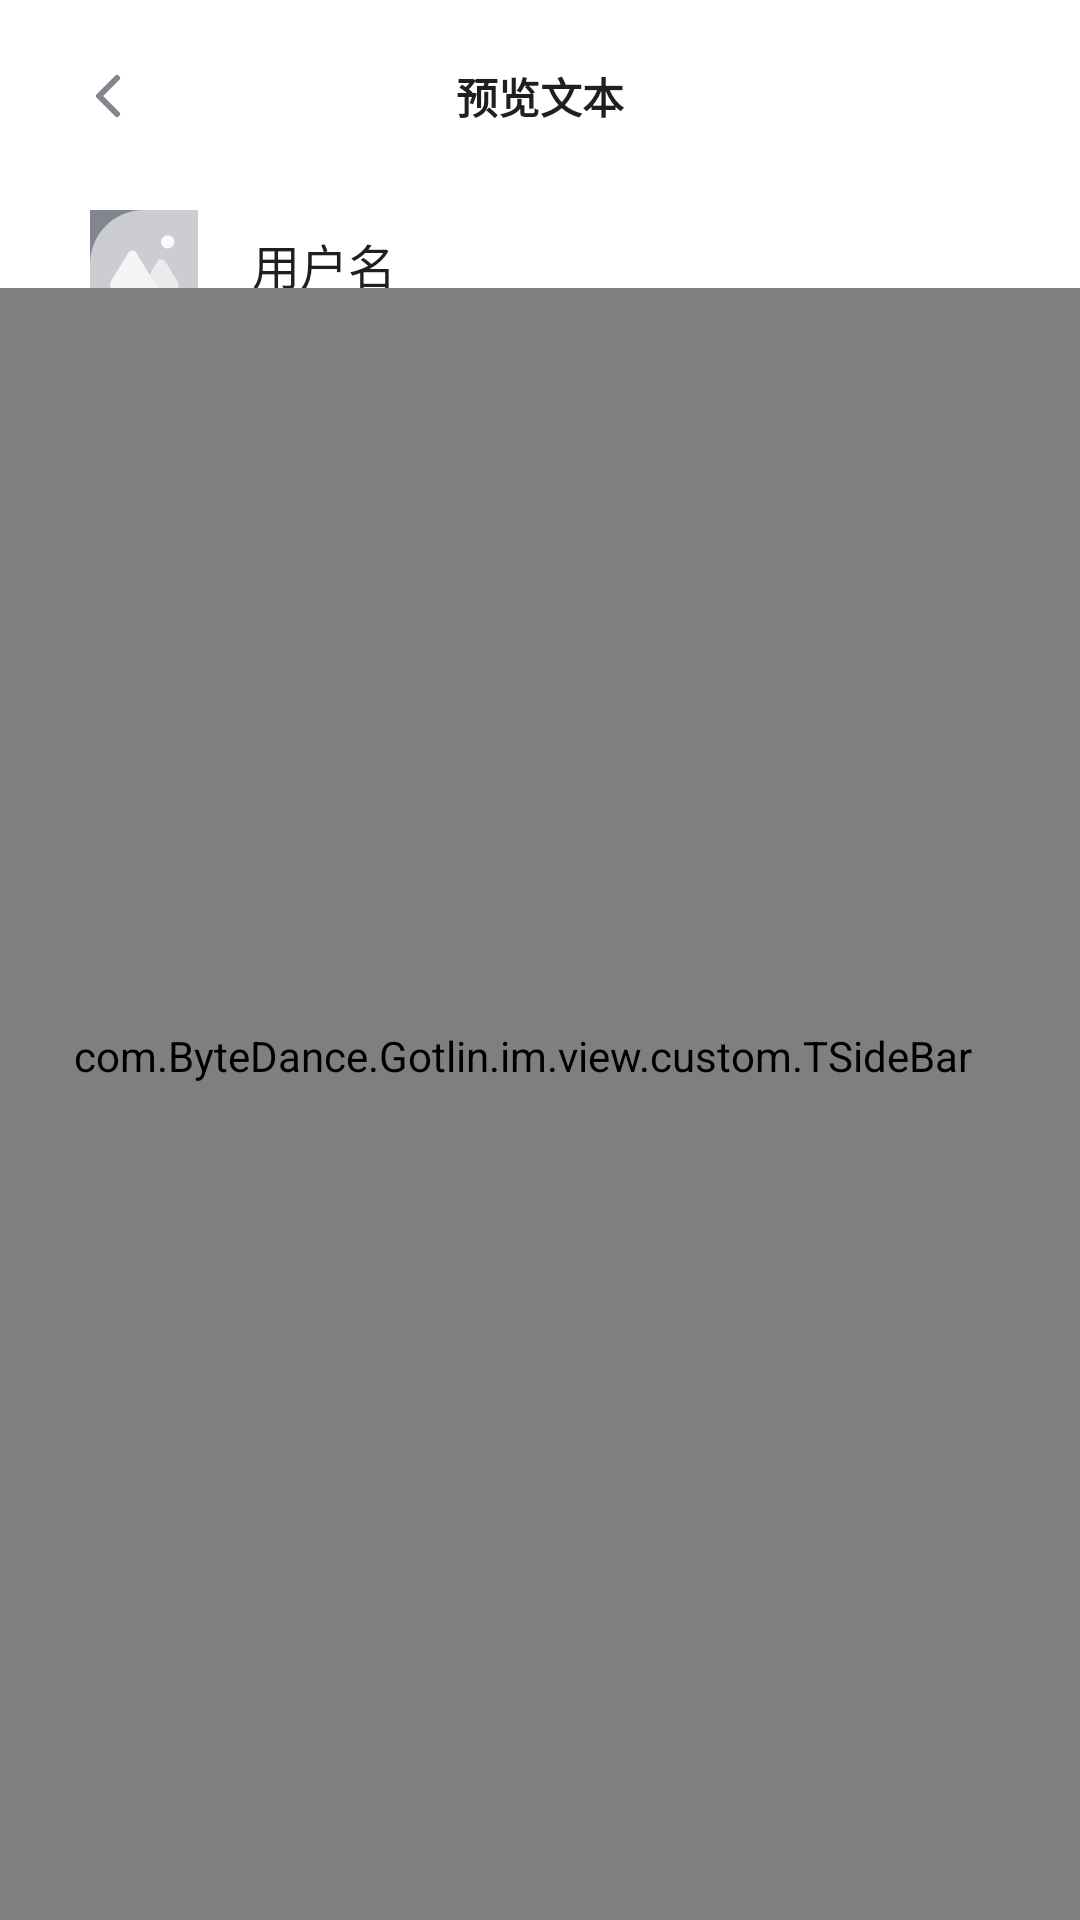

Where icons sit on this 1080px x 1920px app screen, as [left=x1, top=y1, right=x2, bottom=y2]:
chevron left: [left=96, top=75, right=120, bottom=117]
